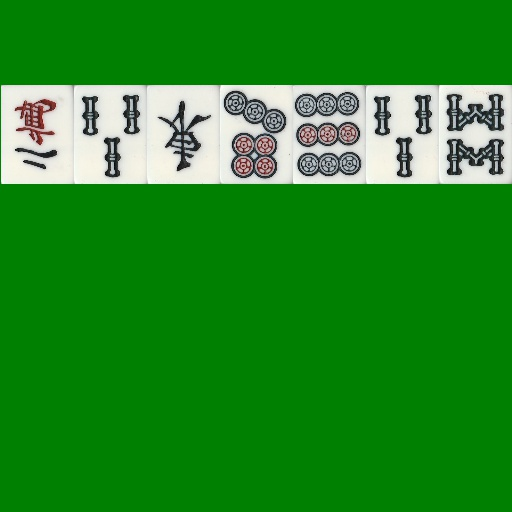2m: (1, 85, 74, 184)
3s: (74, 85, 147, 184), (366, 85, 439, 184)
7p: (220, 85, 293, 184)
8s: (439, 85, 512, 184)
9p: (293, 85, 366, 184)
east: (147, 85, 220, 184)
